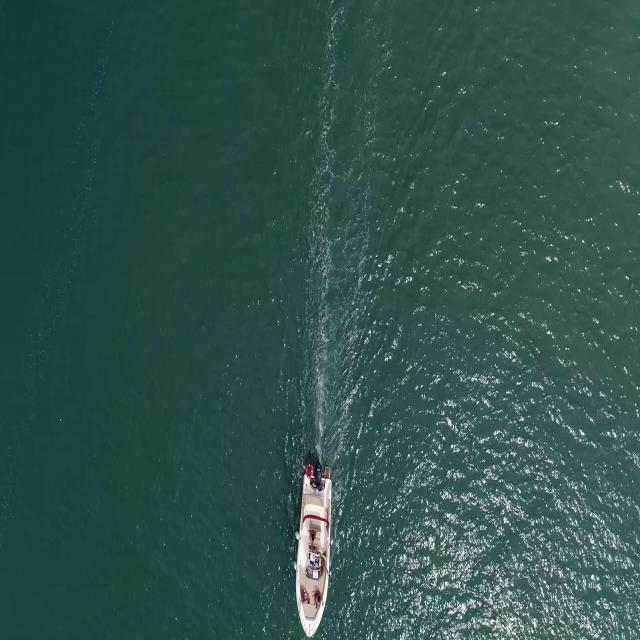boat: (294, 477, 335, 636)
life_buoy: (304, 464, 313, 476)
person: (298, 586, 311, 608), (308, 527, 318, 551), (319, 551, 329, 574), (314, 590, 323, 608)
